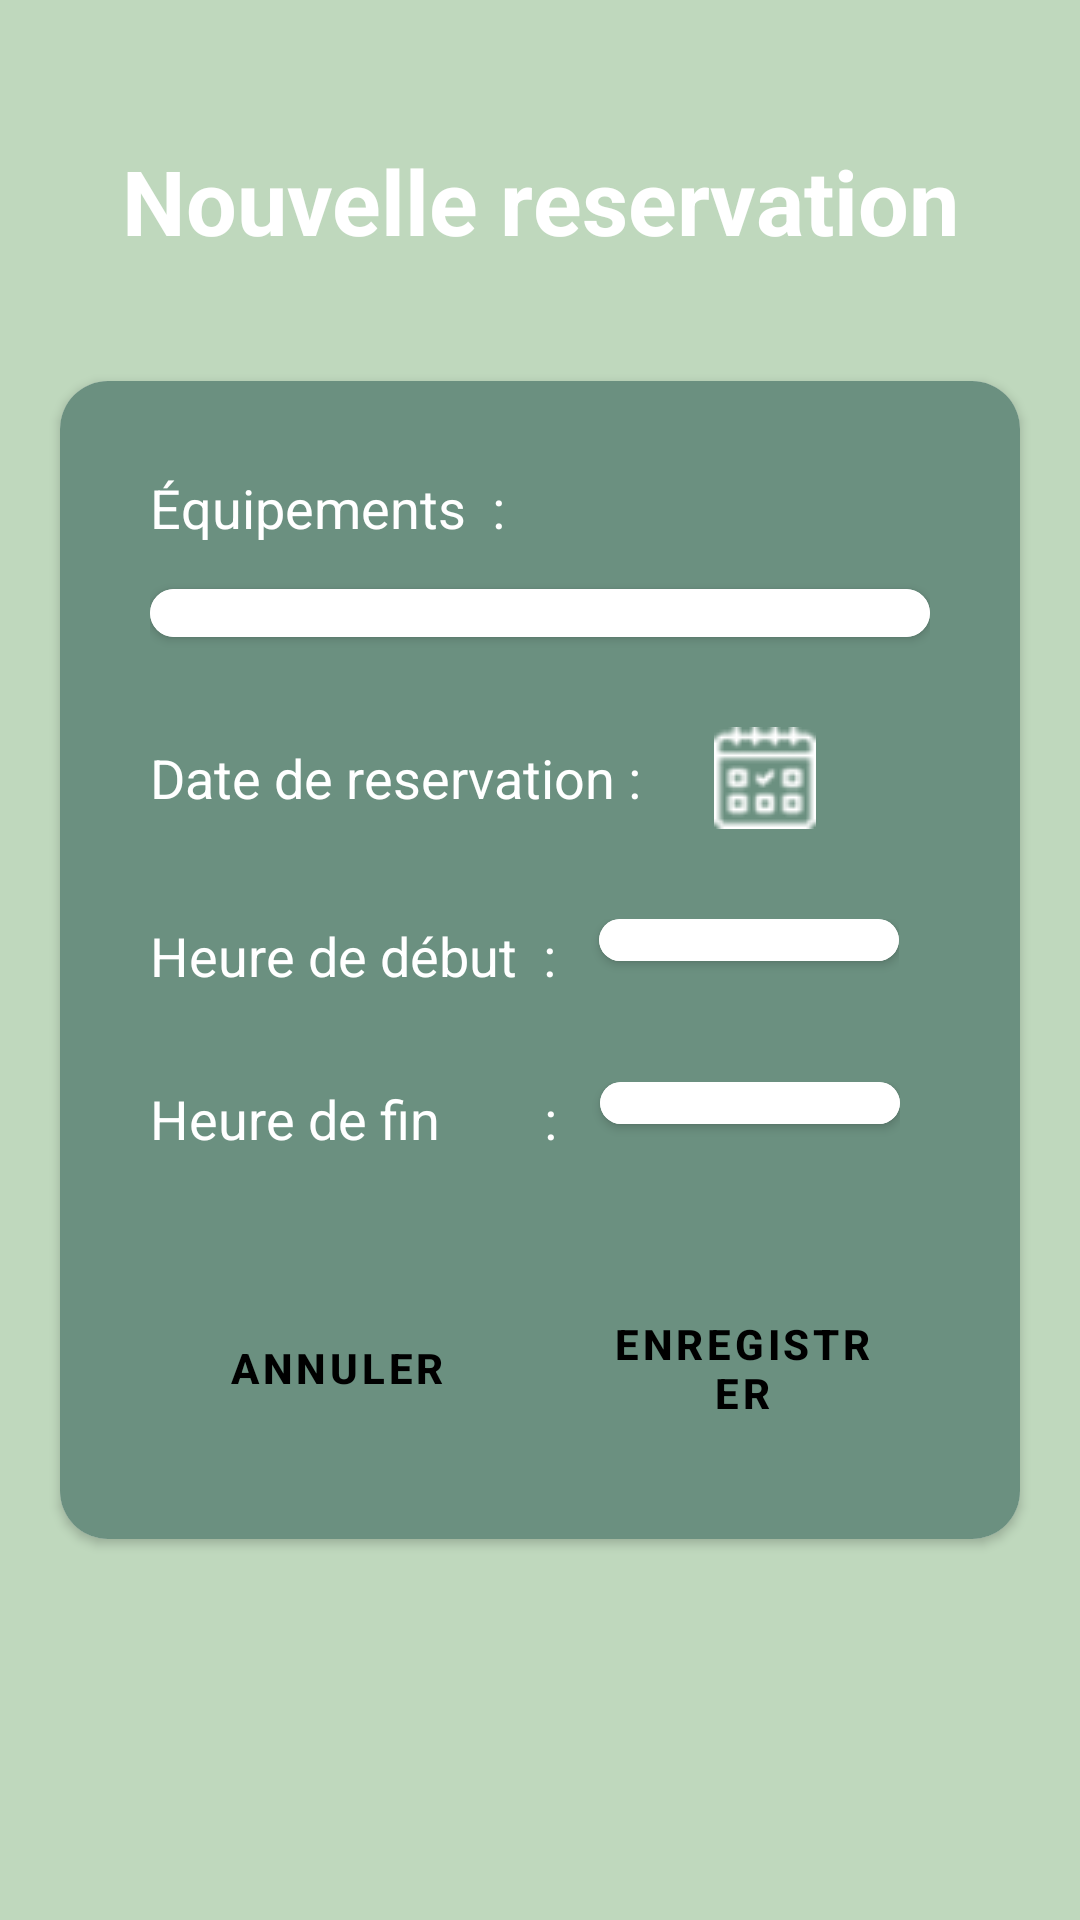

Where to tap for icons on this 1080x1920 app screen, as [x,y]:
bookingreservation: [765,778]
